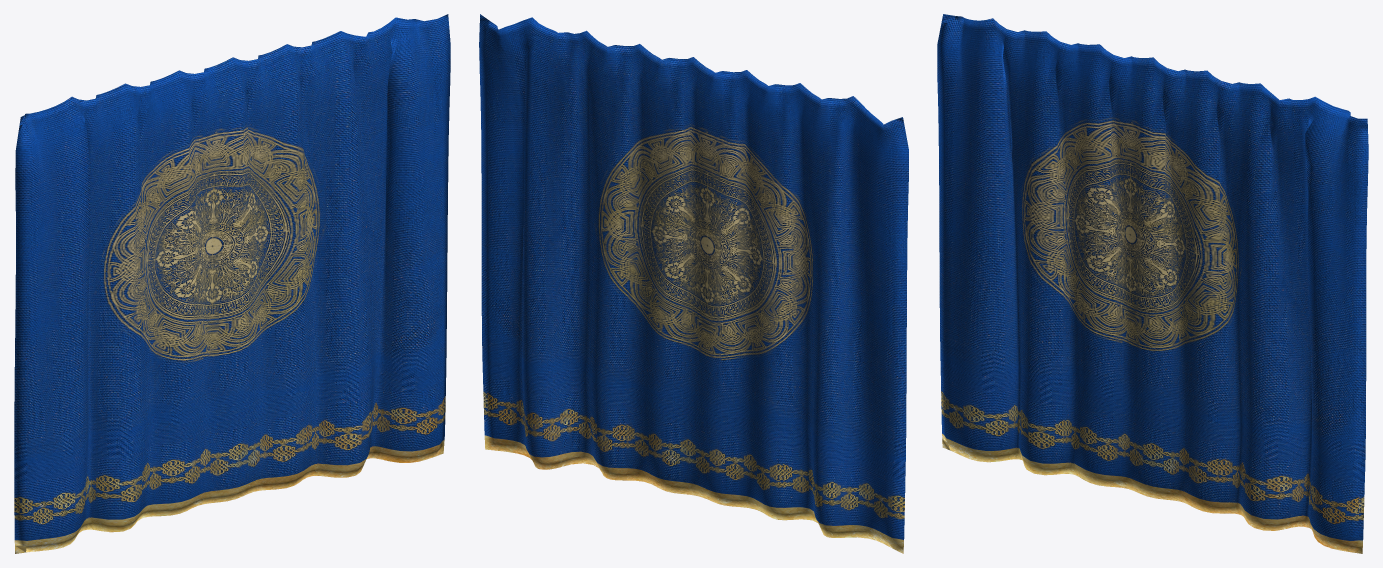
File: sponza_329.gltf
3 views of the same model, side by side, from view 1: azimuth 30°, elevation 25°; view 2: azimuth 150°, elevation 25°; view 3: azimuth 330°, elevation 25° (orthographic).
Visible parts, largest first — view 1: sponza_329; view 2: sponza_329; view 3: sponza_329.
Part boxes in pixels (box(x1,y1,x2,y2)): sponza_329: box(14, 14, 450, 553); sponza_329: box(479, 14, 908, 553); sponza_329: box(937, 14, 1368, 553).
Bounding box in the file's own units: 287 × 283 × 24.58.
